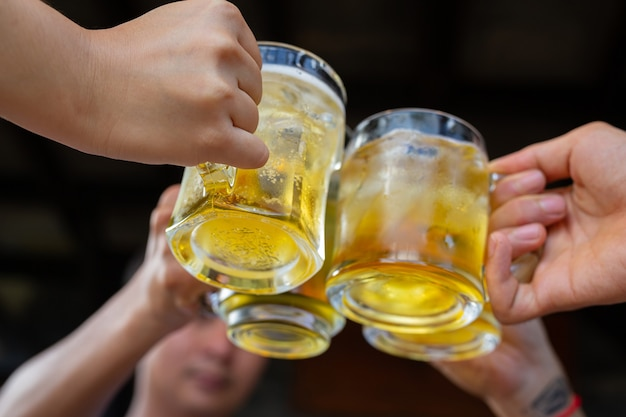alcohol: (163, 41, 350, 296), (337, 107, 494, 335), (207, 163, 348, 358), (361, 294, 504, 363)
